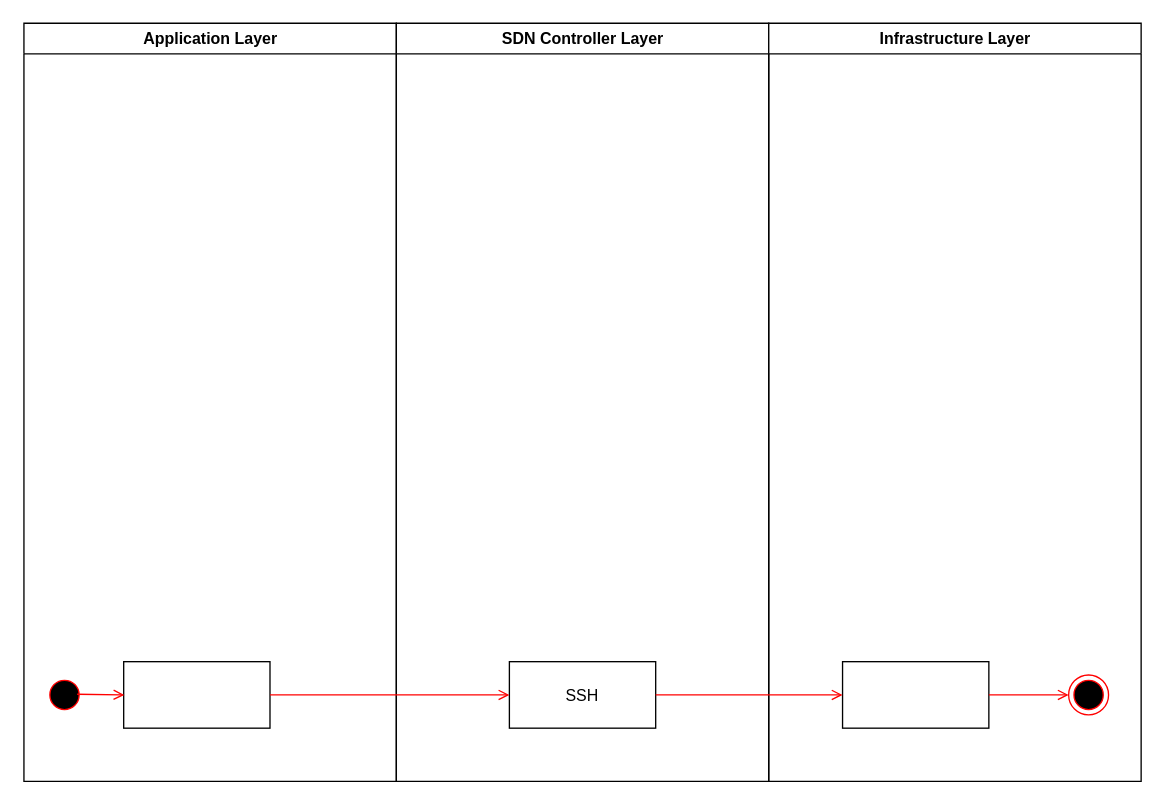
Some shapes in this 1164 by 805 pixel diagram are drawn without their labels. Each missing label, with the box of its shape:
Application: (122, 660, 270, 728)
DockerLab: (841, 660, 989, 728)
